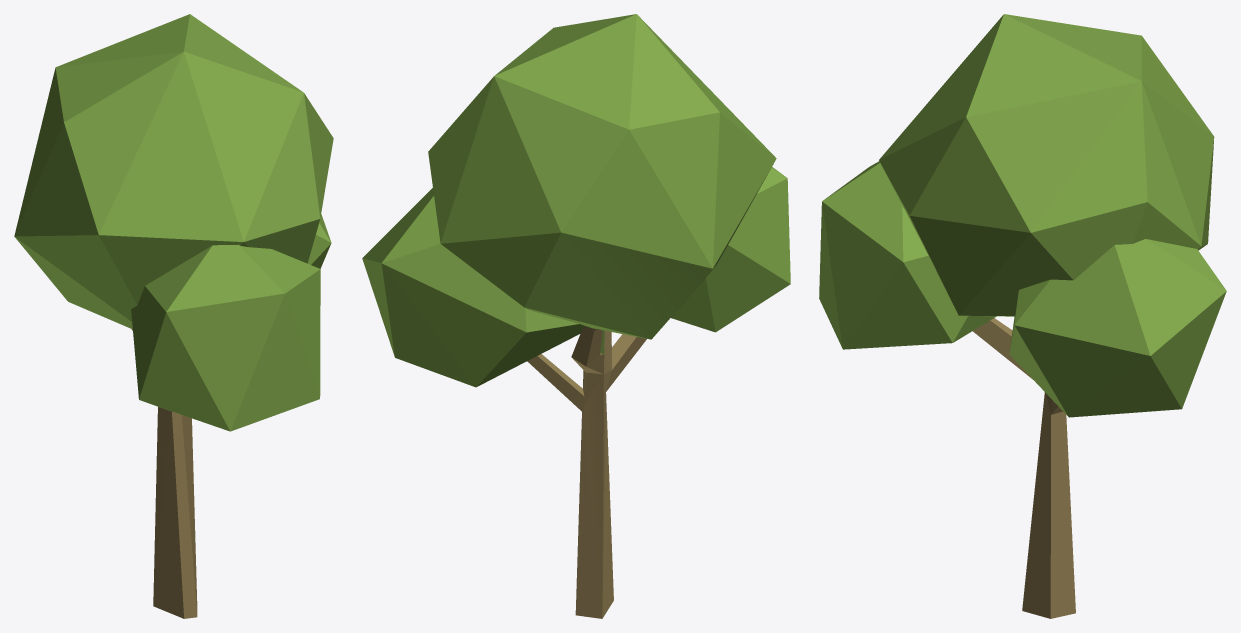
Rendered from TreeOak (2).fbx.
The picture shows the model from 3 angles, left to right: view 1: azimuth 30°, elevation 25°; view 2: azimuth 150°, elevation 25°; view 3: azimuth 270°, elevation 25°; orthographic projection.
Parts seen in each view (by area): view 1: TreeOak.002; view 2: TreeOak.002; view 3: TreeOak.002.
Part boxes in pixels (bbox=[...]): TreeOak.002: bbox=[14, 14, 333, 618]; TreeOak.002: bbox=[362, 14, 790, 618]; TreeOak.002: bbox=[819, 14, 1226, 618].
Size of the model in its own units: 0.7956 by 1.36 by 0.8558.
